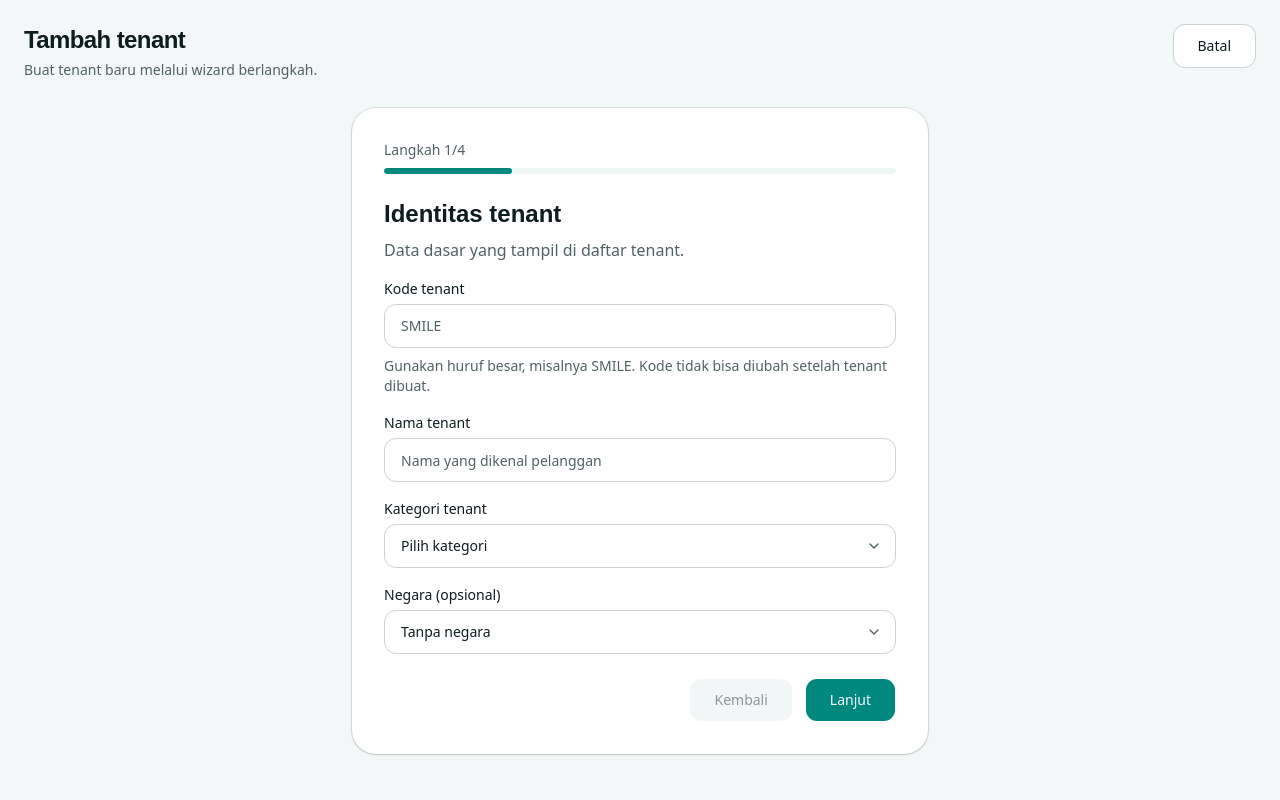
Scenario: TenantCreatePage steps (D9) › shows the review first: the create button is a new element, focus moves to the heading, nothing is saved
This screenshot has width=1280, height=800.
Type "NEWCO" into the field labelled "Kode tenant".
click(640, 326); type("NEWCO")  # box x1=384 y1=304 x2=896 y2=348
Type "Smile Dental Group" into the field labelled "Nama tenant".
click(640, 460); type("Smile Dental Group")  # box x1=384 y1=438 x2=896 y2=482
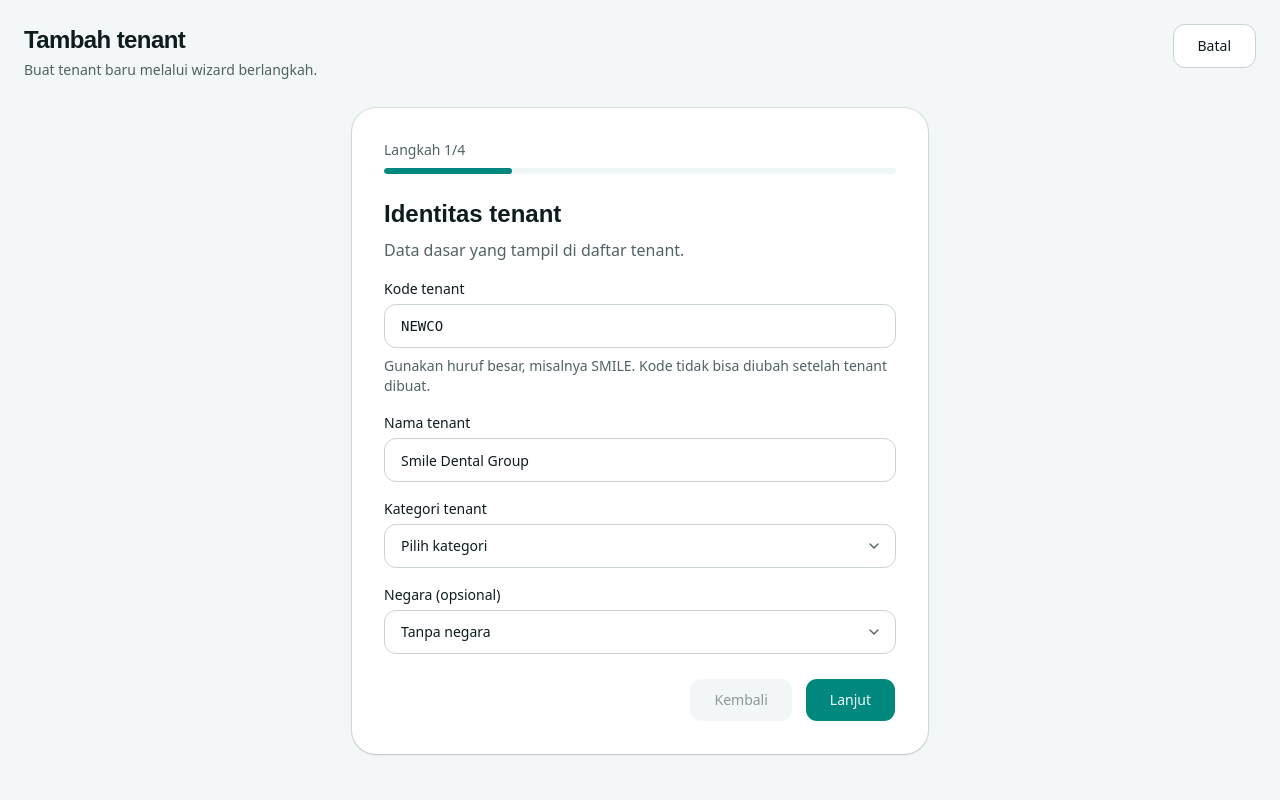
Select "Dental Clinic" in the dropdown labelled "Kategori tenant" at [640, 546], box x1=384 y1=524 x2=896 y2=568
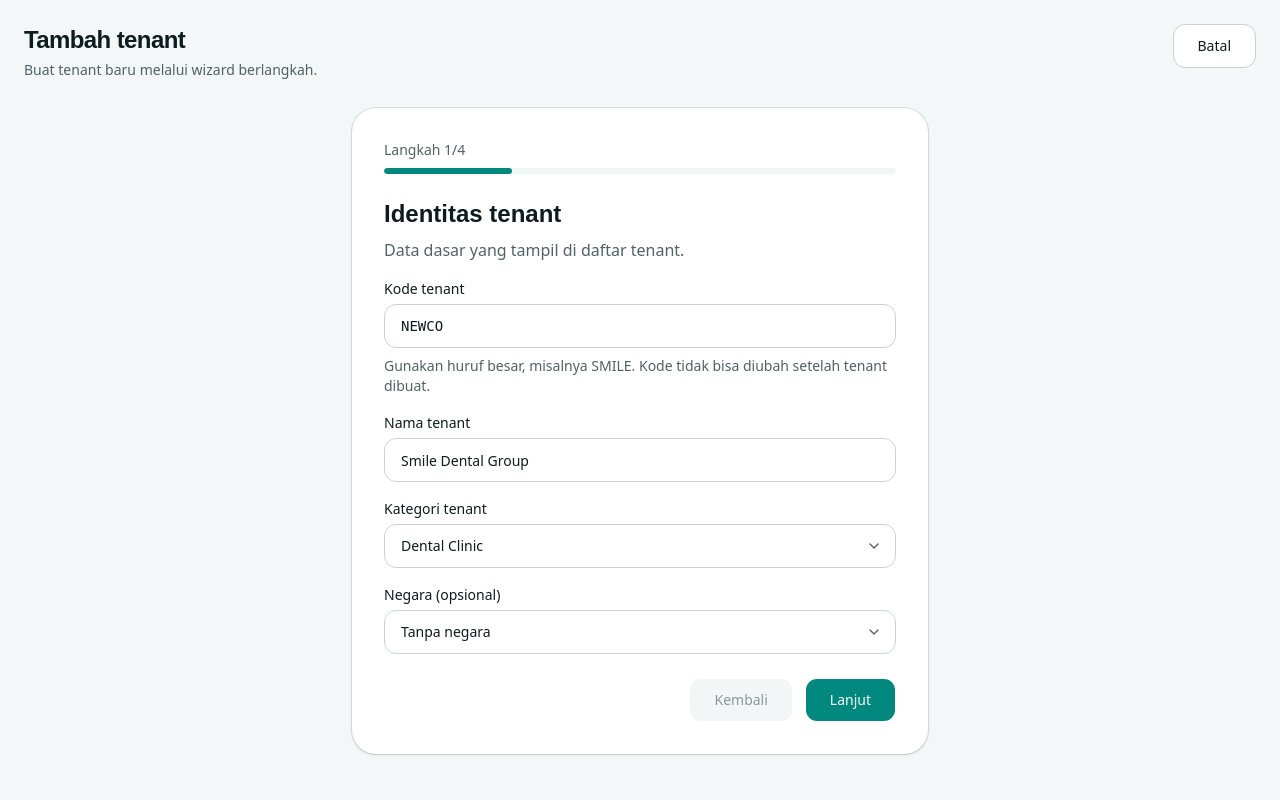
Click the button "Lanjut".
click(850, 700)  # box x1=805 y1=678 x2=896 y2=722
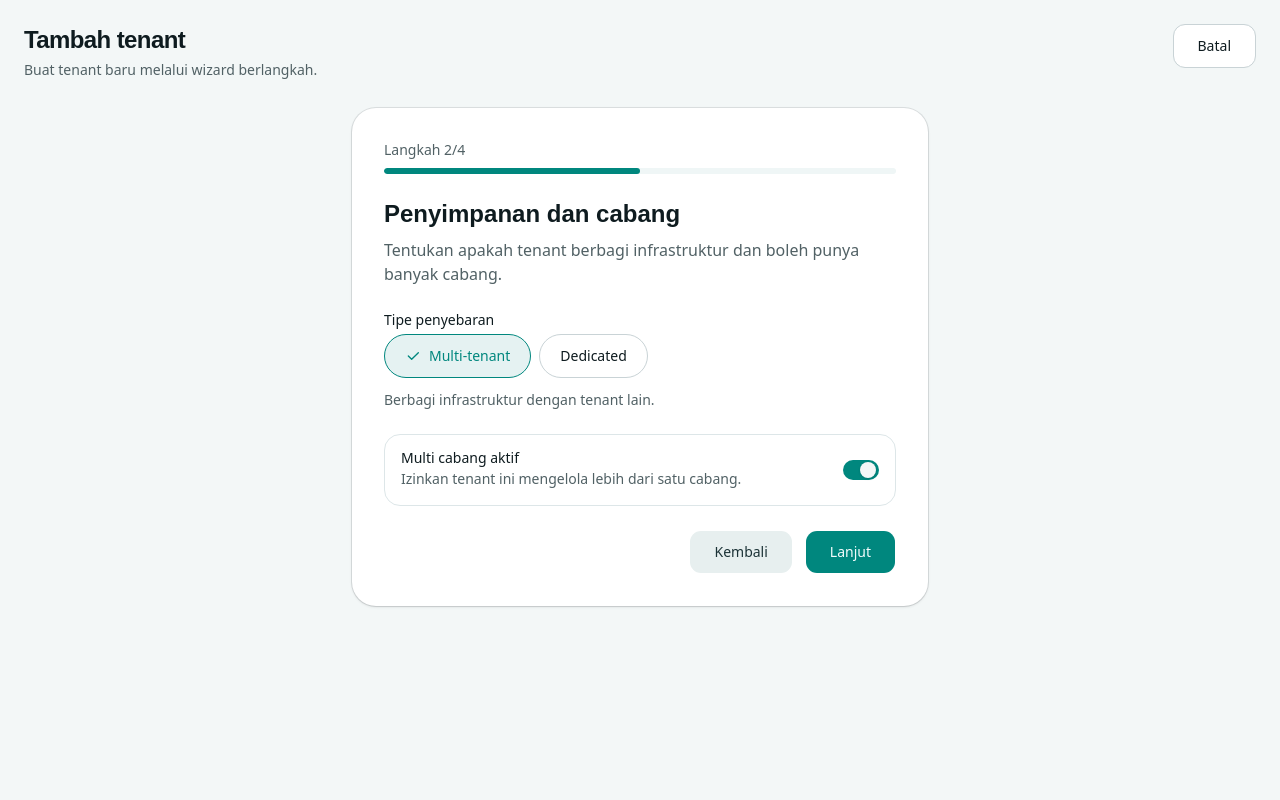
Expected: the text "Tipe penyebaran" is shown, x1=384 y1=310 x2=494 y2=330
Click the button "Lanjut".
click(850, 552)  # box x1=805 y1=530 x2=896 y2=574
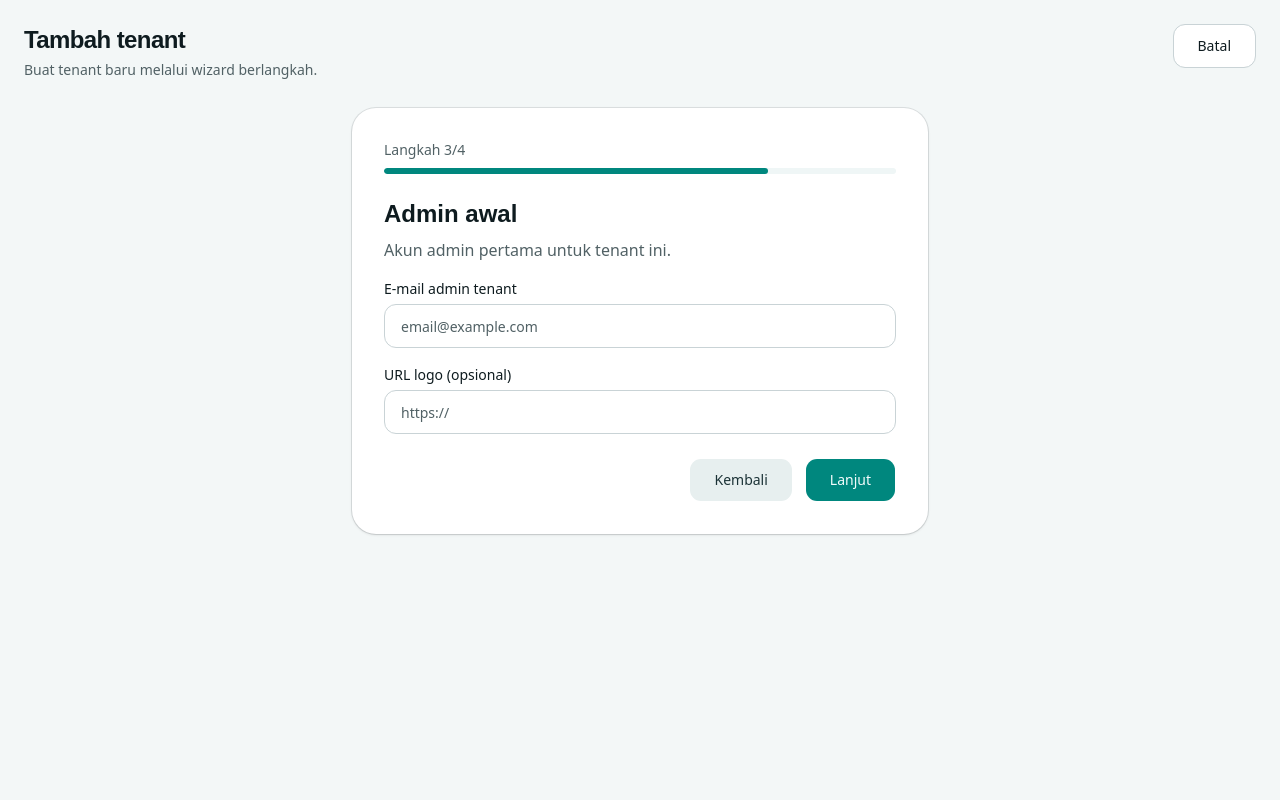
Expected: the field labelled "E-mail admin tenant" is shown
Type "admin@newco.example.com" into the field labelled "E-mail admin tenant".
click(640, 326); type("admin@newco.example.com")  # box x1=384 y1=304 x2=896 y2=348
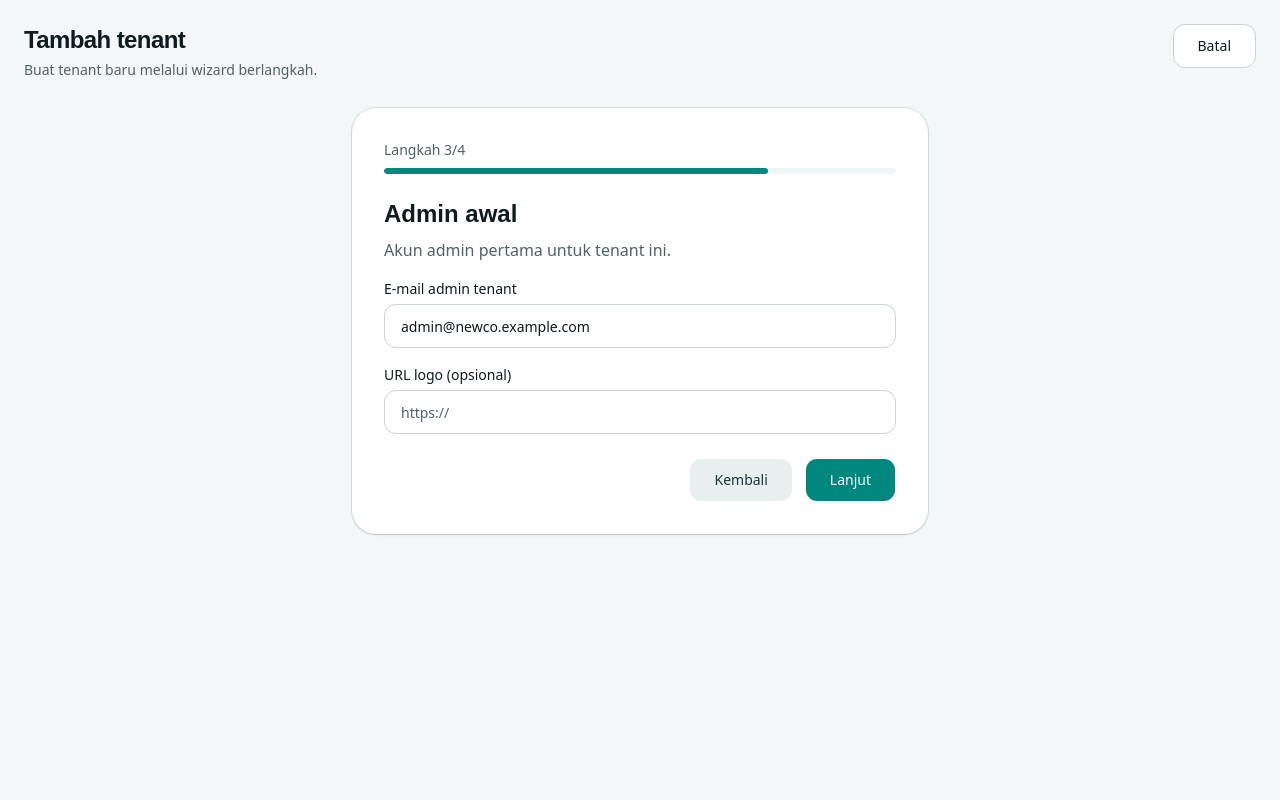
Click the button "Lanjut".
click(850, 480)  # box x1=805 y1=458 x2=896 y2=502
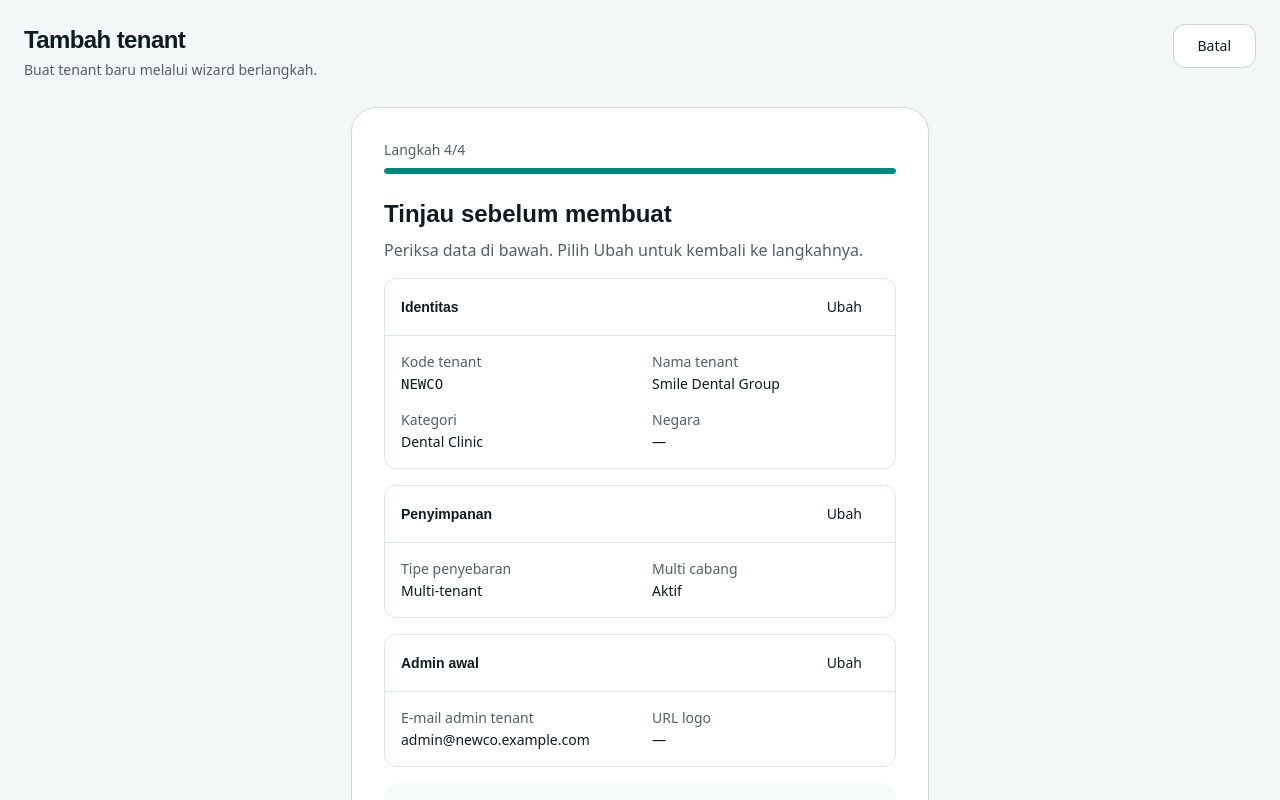
Expected: the button "Lanjut" is gone
